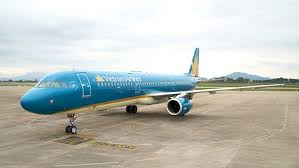maybay_dansu: (22, 47, 276, 122)
